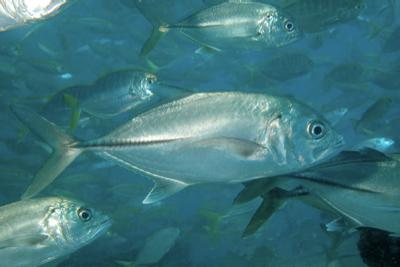Carangidae -Jacks-: (4, 83, 344, 204)
